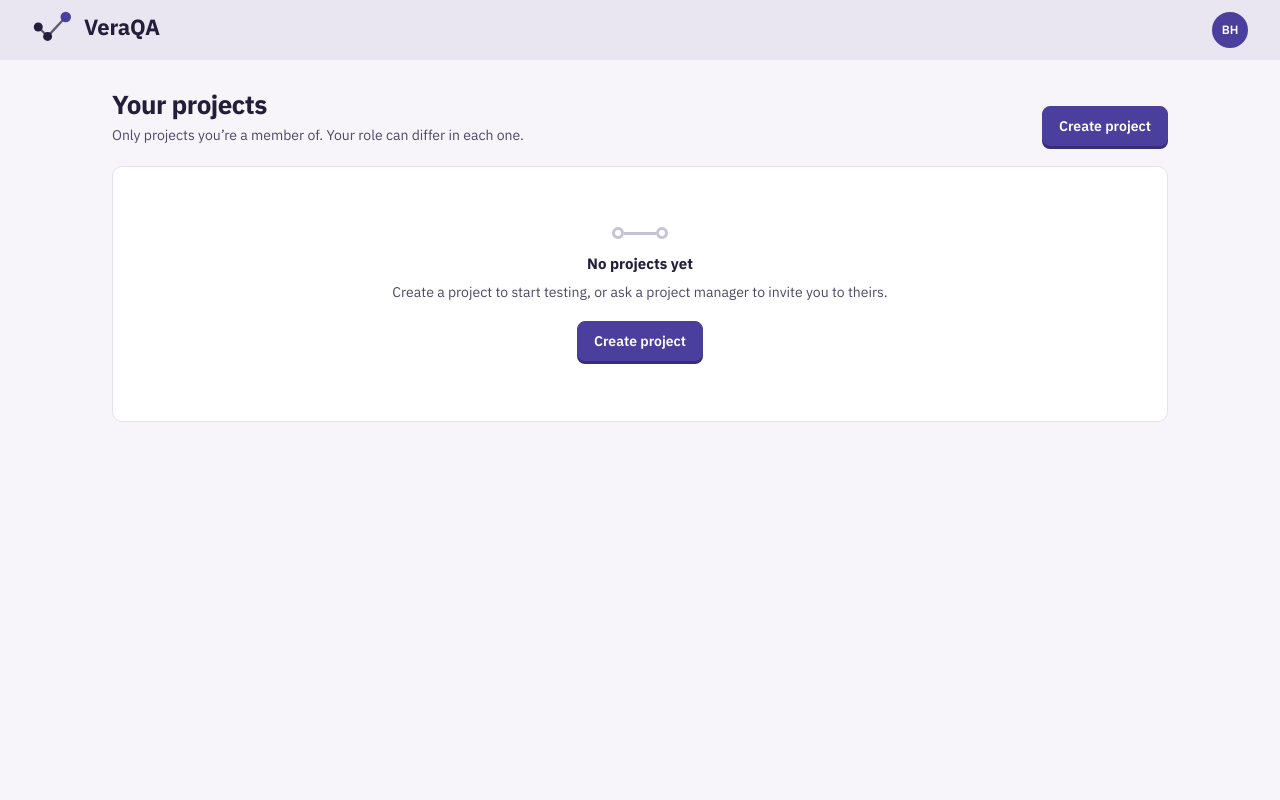
Test: Create project › starts from the empty state too
This screenshot has width=1280, height=800.
Expected: the text "No projects yet" is shown, [587,253,693,275]
Click the button "Create project" below "No projects yet".
click(640, 341)  # box [577,321,703,361]
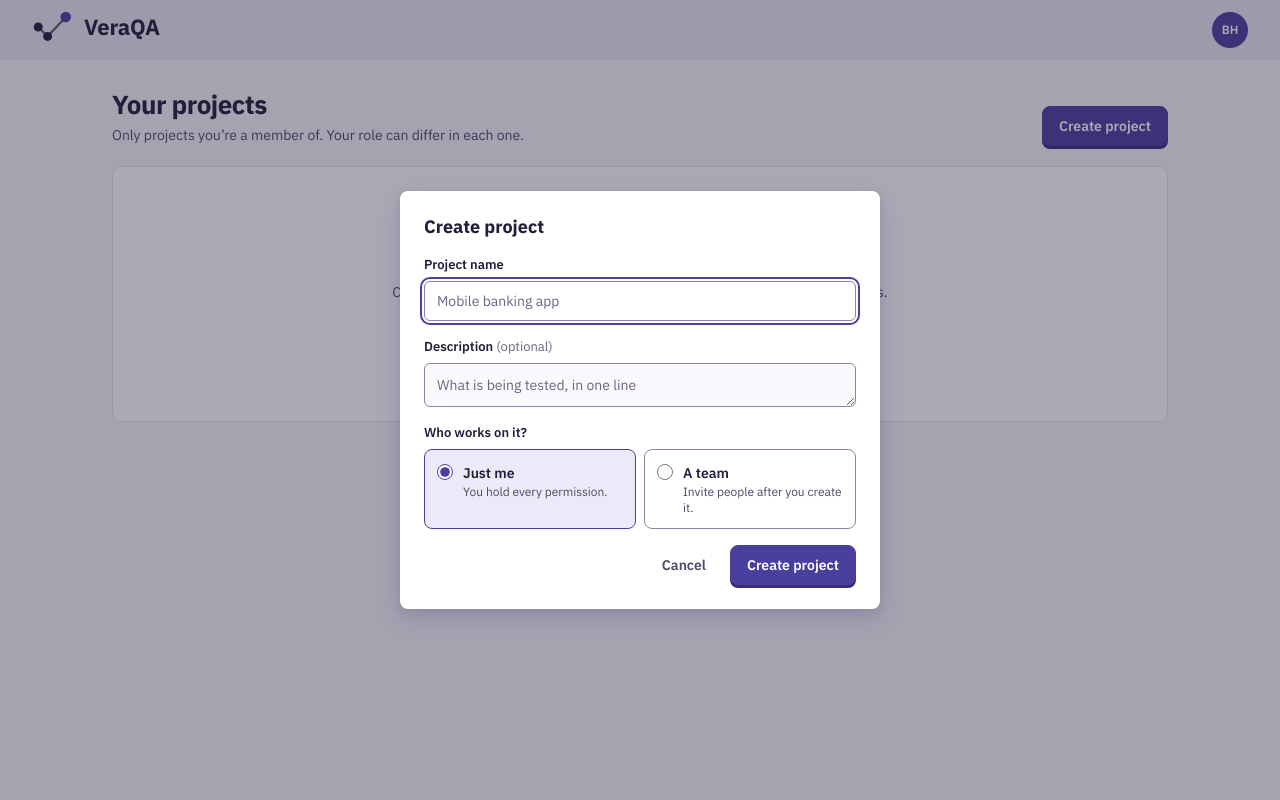
Now the dialog "Create project" is shown, box [400,191,880,609]
